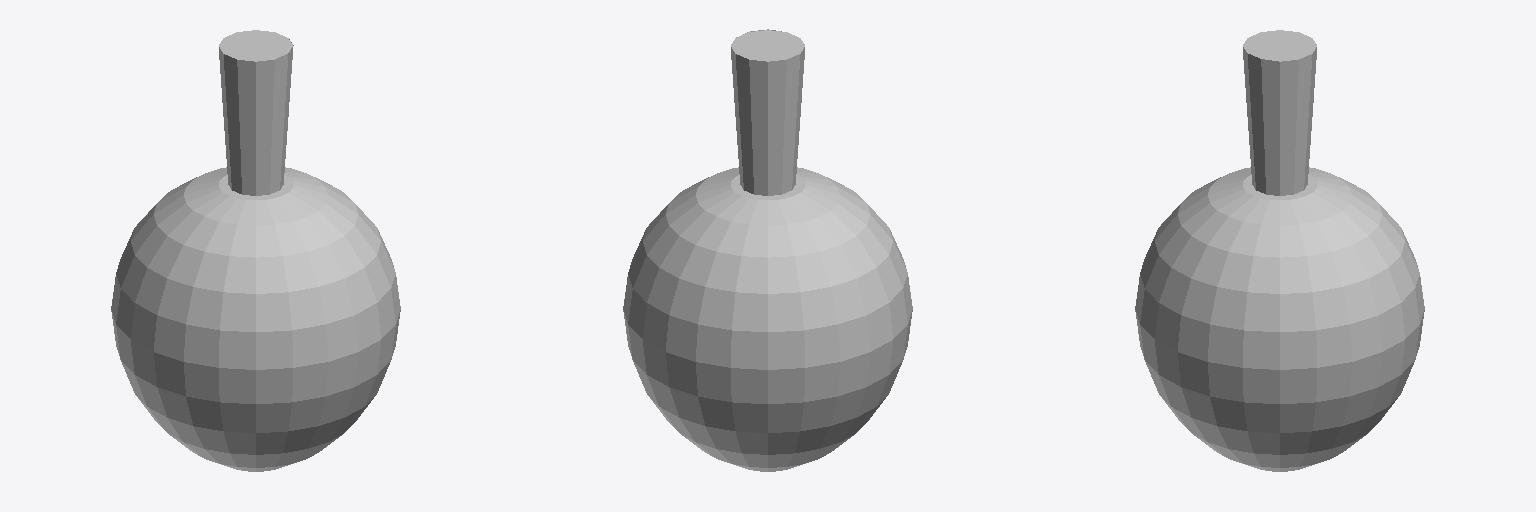
File: tree.obj
3 renders of one model, left to right at view 1: azimuth 30°, elevation 25°; view 2: azimuth 150°, elevation 25°; view 3: azimuth 270°, elevation 25°, orthographic.
Visible parts, largest first — view 1: 树朵.1; view 2: 树朵.1; view 3: 树朵.1.
Boxes of the visible parts, x1,y1,x2,y2 form: 树朵.1: [111, 30, 400, 471]; 树朵.1: [623, 29, 912, 471]; 树朵.1: [1135, 30, 1424, 471].
Bounding box in the file's own units: 37.87 × 60.78 × 37.87.